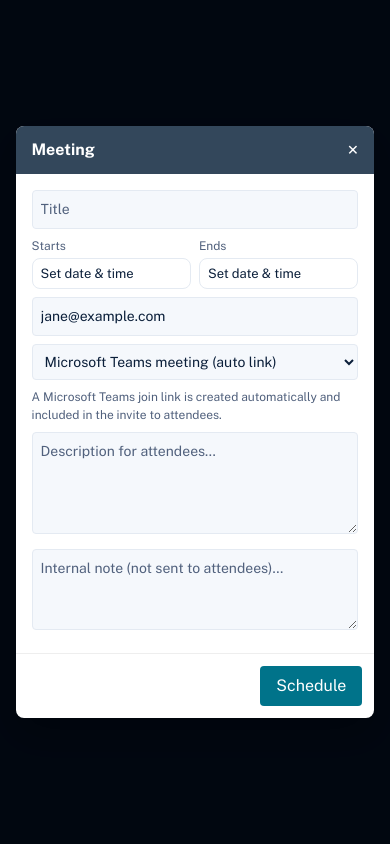
Scenario: MeetingPopup › suggests attendees by name for Teams meetings, pre-filled with the contact
Replace the text in the 2nd field with "jane@example.com, andr". click: (195, 317)
box: [32,297,358,336]
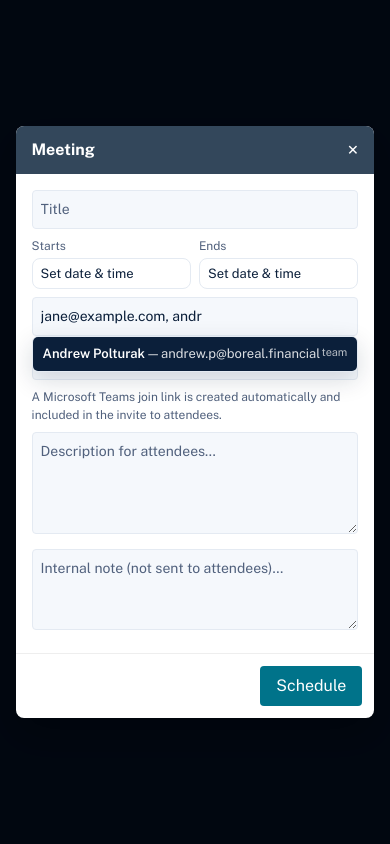
Click the text "Andrew Polturak". click: (94, 354)
box: [43,346,145,361]
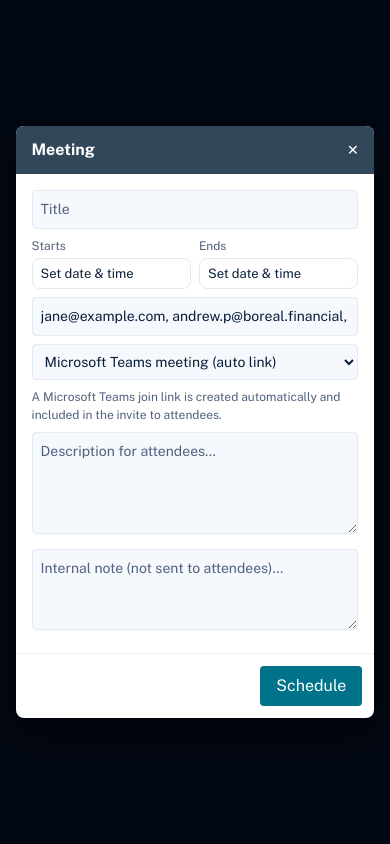
Result: the 2nd field holds "jane@example.com, andrew.p@boreal.financial, " at [32,297,358,336]
